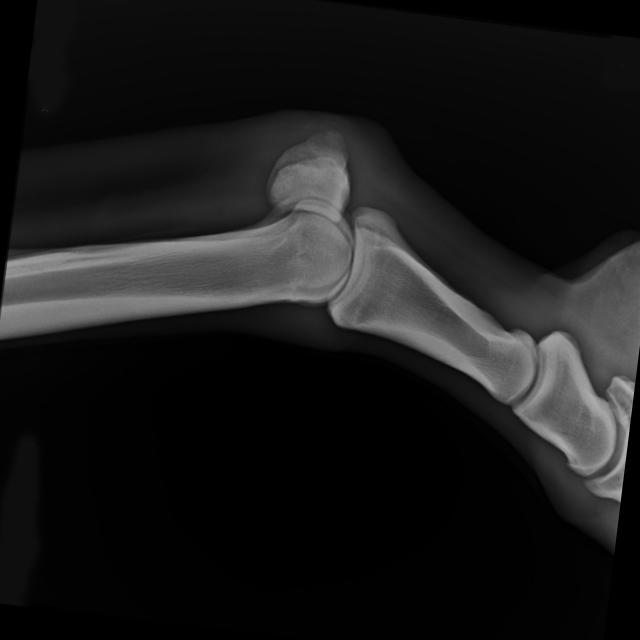joint-ht8A: (181, 106, 444, 382)
